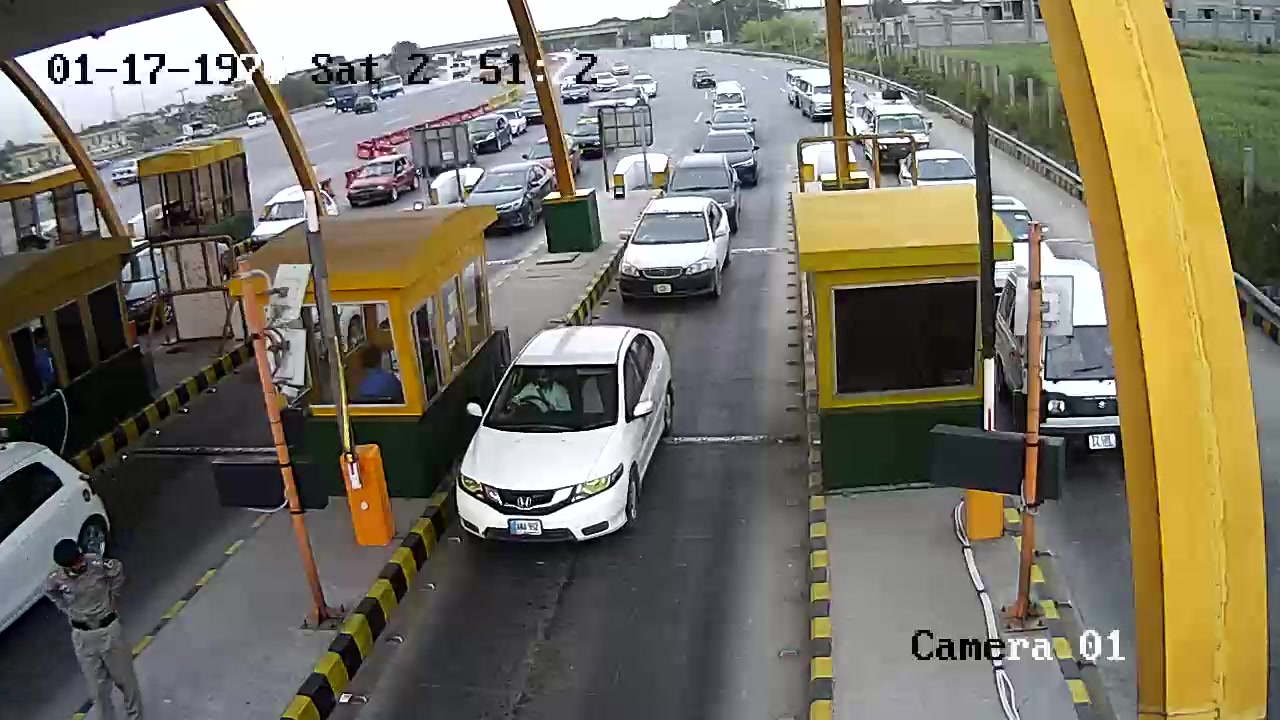F1: (450, 323, 681, 548)
